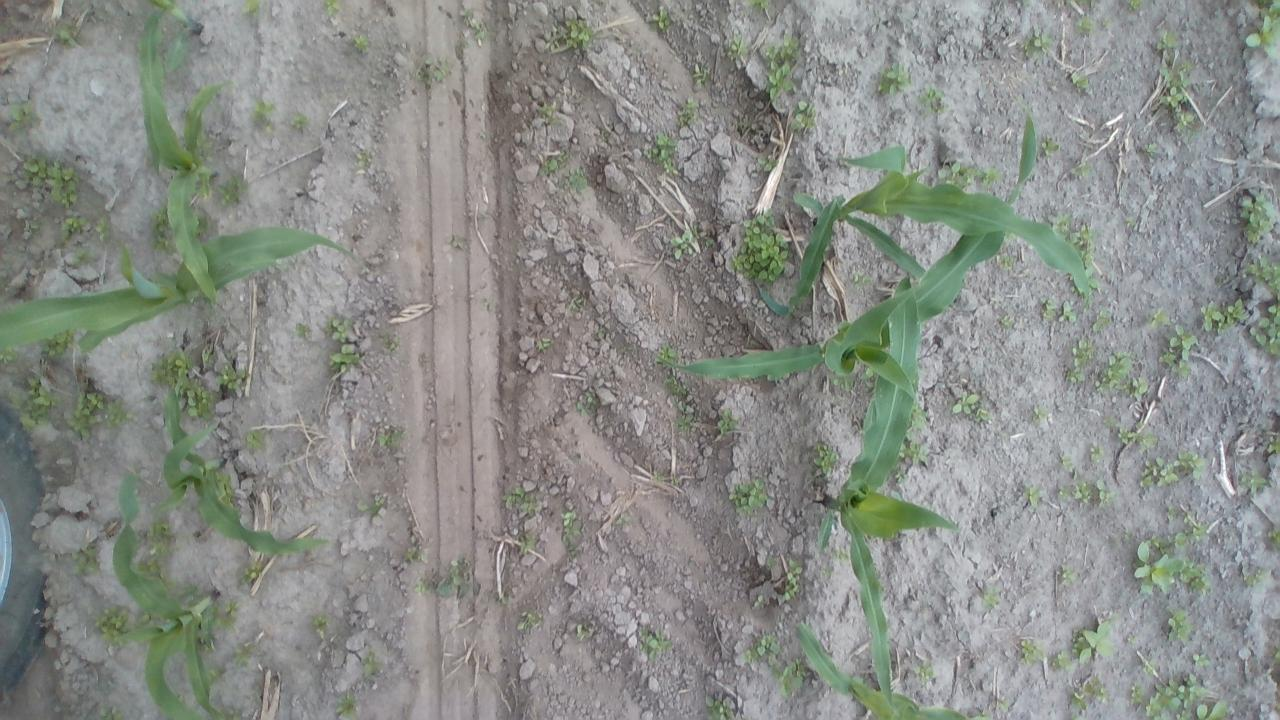Maize: (662, 108, 1042, 391), (817, 270, 961, 703), (756, 140, 1084, 318), (3, 228, 361, 352), (114, 472, 233, 720), (161, 377, 327, 551), (791, 622, 992, 718), (140, 79, 221, 308), (140, 0, 209, 82)
Weeds: (729, 206, 791, 290), (1144, 670, 1216, 720), (66, 388, 128, 441), (1, 376, 58, 433), (19, 154, 81, 205), (1156, 56, 1198, 126), (1133, 543, 1185, 599), (1091, 352, 1148, 400), (760, 34, 799, 102), (412, 553, 472, 597), (1072, 616, 1124, 664), (1160, 324, 1200, 382), (1239, 193, 1278, 250), (1146, 516, 1210, 550), (768, 654, 810, 700), (664, 218, 706, 262), (146, 350, 197, 386), (640, 131, 679, 177), (1244, 0, 1280, 48), (728, 477, 768, 520), (1065, 670, 1108, 710), (1198, 300, 1248, 333), (1054, 479, 1114, 506), (90, 604, 130, 644), (1241, 255, 1280, 296), (540, 18, 592, 48), (1250, 305, 1280, 357), (414, 50, 456, 85), (742, 634, 784, 669), (182, 381, 217, 421), (874, 62, 911, 98), (936, 158, 977, 188), (812, 440, 842, 481), (501, 481, 538, 514), (1116, 421, 1158, 450), (1138, 457, 1176, 489), (635, 624, 671, 656), (139, 522, 172, 555), (2, 98, 36, 130), (1174, 448, 1210, 478), (557, 164, 589, 196), (72, 540, 102, 574), (782, 558, 804, 604), (1073, 222, 1097, 264), (326, 344, 362, 372), (1020, 23, 1050, 56), (147, 210, 170, 253), (212, 364, 246, 392), (704, 689, 734, 720), (249, 98, 274, 134), (1168, 606, 1190, 646), (217, 176, 244, 208), (229, 639, 261, 666), (42, 335, 76, 360), (898, 440, 928, 468), (917, 87, 948, 113), (91, 207, 112, 245), (1194, 698, 1230, 720), (794, 98, 818, 130), (462, 10, 487, 40), (560, 509, 581, 544), (675, 98, 703, 124), (951, 391, 980, 416), (1019, 638, 1046, 664), (1139, 308, 1166, 334), (516, 607, 540, 636), (690, 63, 712, 94), (244, 428, 271, 453), (406, 539, 435, 562), (1072, 338, 1094, 368), (715, 408, 739, 435), (1240, 468, 1268, 491), (335, 692, 358, 719), (57, 214, 88, 234), (1245, 568, 1273, 590), (912, 658, 934, 686), (1186, 564, 1208, 591), (910, 404, 930, 432), (575, 391, 594, 420), (1056, 561, 1078, 586), (651, 344, 673, 369), (536, 154, 558, 178), (534, 100, 559, 121), (515, 532, 535, 558), (1046, 214, 1076, 231), (331, 318, 352, 342), (664, 374, 688, 395), (0, 346, 27, 364), (724, 36, 746, 58), (572, 622, 594, 644), (134, 558, 164, 574), (1040, 299, 1058, 325), (359, 494, 388, 510), (981, 166, 1004, 186), (376, 425, 396, 448), (1090, 309, 1110, 332), (1086, 442, 1107, 463), (1048, 650, 1072, 668), (195, 211, 212, 236), (1041, 133, 1061, 154), (1060, 300, 1075, 328), (240, 562, 262, 581), (829, 374, 852, 392), (1158, 29, 1177, 50), (362, 652, 381, 673), (1022, 486, 1041, 507), (1128, 682, 1146, 704), (758, 155, 782, 171), (73, 241, 92, 261), (674, 411, 694, 430), (241, 0, 262, 18), (650, 11, 671, 29), (310, 613, 332, 630), (1075, 15, 1094, 34), (826, 545, 850, 560), (322, 0, 340, 20), (1140, 658, 1158, 678), (208, 665, 228, 682), (1070, 162, 1091, 178), (852, 272, 873, 288), (980, 592, 1001, 608), (56, 26, 76, 42), (353, 150, 369, 170), (567, 292, 586, 308), (447, 234, 466, 250), (1192, 654, 1212, 669), (1266, 434, 1280, 455), (1070, 72, 1088, 88), (104, 704, 122, 720), (996, 254, 1014, 270), (995, 696, 1012, 712), (1124, 0, 1144, 13), (294, 320, 310, 336), (744, 0, 769, 10), (534, 337, 554, 349), (352, 36, 368, 51), (1267, 526, 1280, 544), (1031, 404, 1045, 420), (1058, 452, 1076, 464), (223, 599, 238, 613), (1065, 368, 1080, 382), (752, 596, 765, 612), (890, 470, 906, 483), (289, 113, 302, 128), (1140, 142, 1156, 154), (226, 708, 242, 719), (976, 408, 991, 419), (1164, 506, 1174, 522), (1102, 416, 1118, 426), (656, 471, 668, 484), (386, 335, 396, 350), (1012, 0, 1028, 9), (1274, 640, 1280, 664), (1000, 317, 1013, 327), (1100, 15, 1111, 26), (1126, 217, 1138, 226), (479, 129, 488, 140), (1126, 633, 1133, 643)
